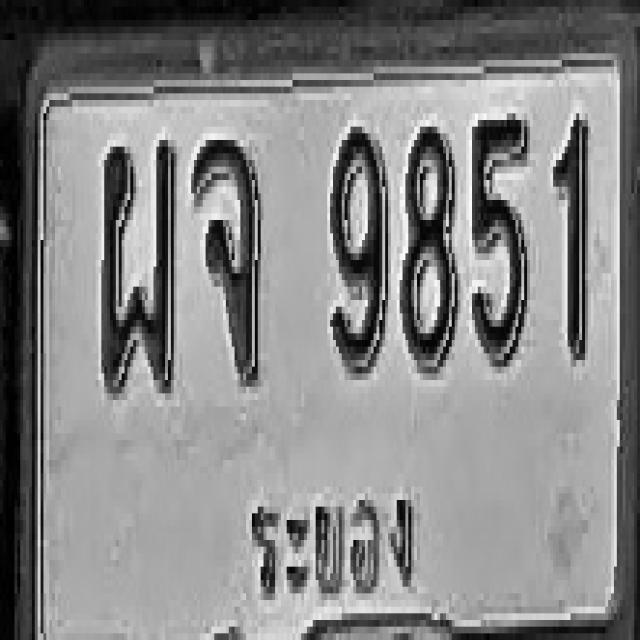1: (553, 113, 588, 360)
17ChorChan: (191, 137, 261, 383)
37PhorPhueng: (101, 140, 177, 393)
5: (471, 113, 528, 367)
8: (401, 123, 456, 370)
9: (330, 123, 385, 370)
Rayong: (235, 471, 431, 605)
